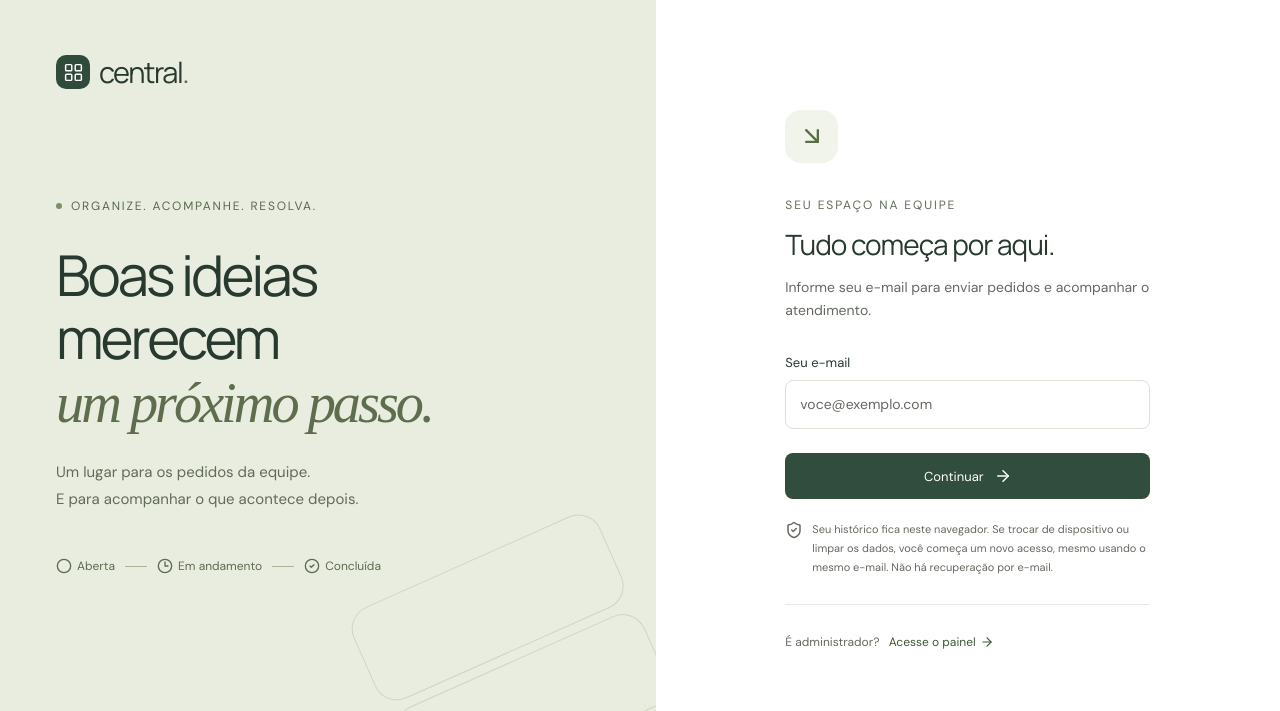
Scenario: participant flow › requires only email, explains local history and retains email after failure
The width and height of the screenshot is (1280, 711).
expect the text "Não há recuperação por e-mail" is shown: met, box [812,522,1146,574]
Type "ana@example.test" into the field labelled "Seu e-mail". click: (968, 405)
box: [785,380,1150,429]
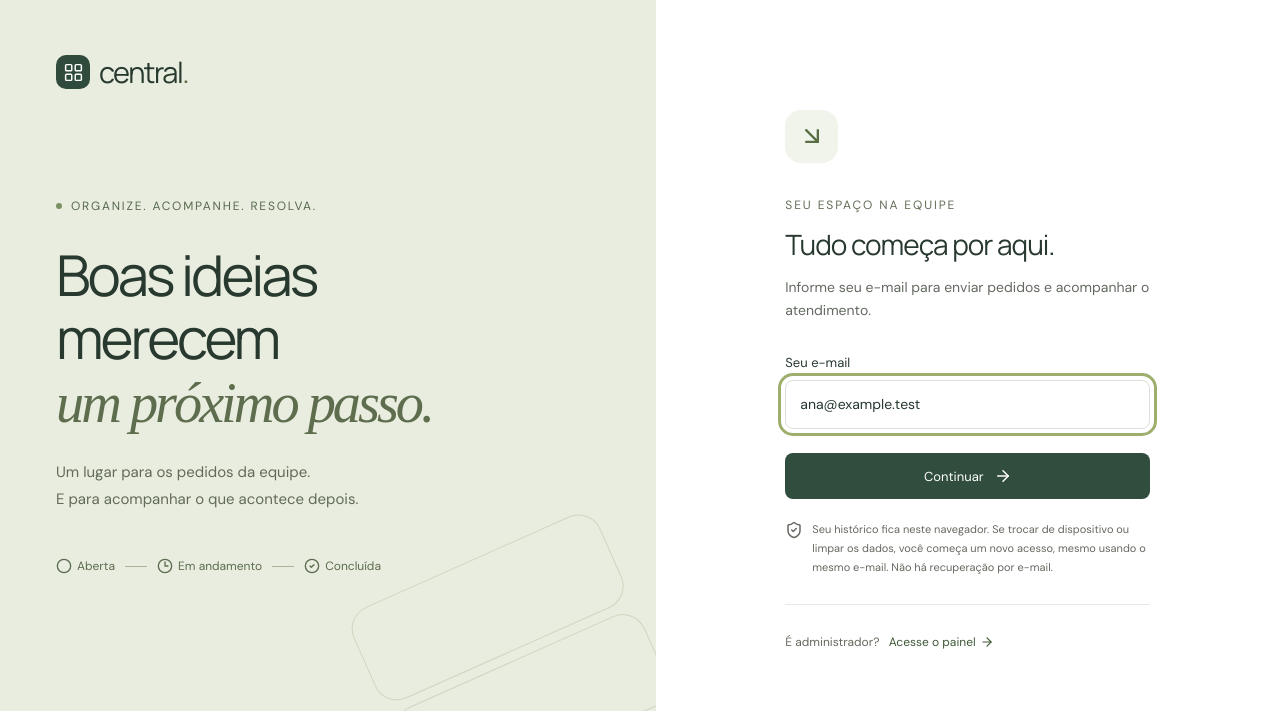
Click the button "Continuar". click: (968, 476)
box: [785,453,1150,499]
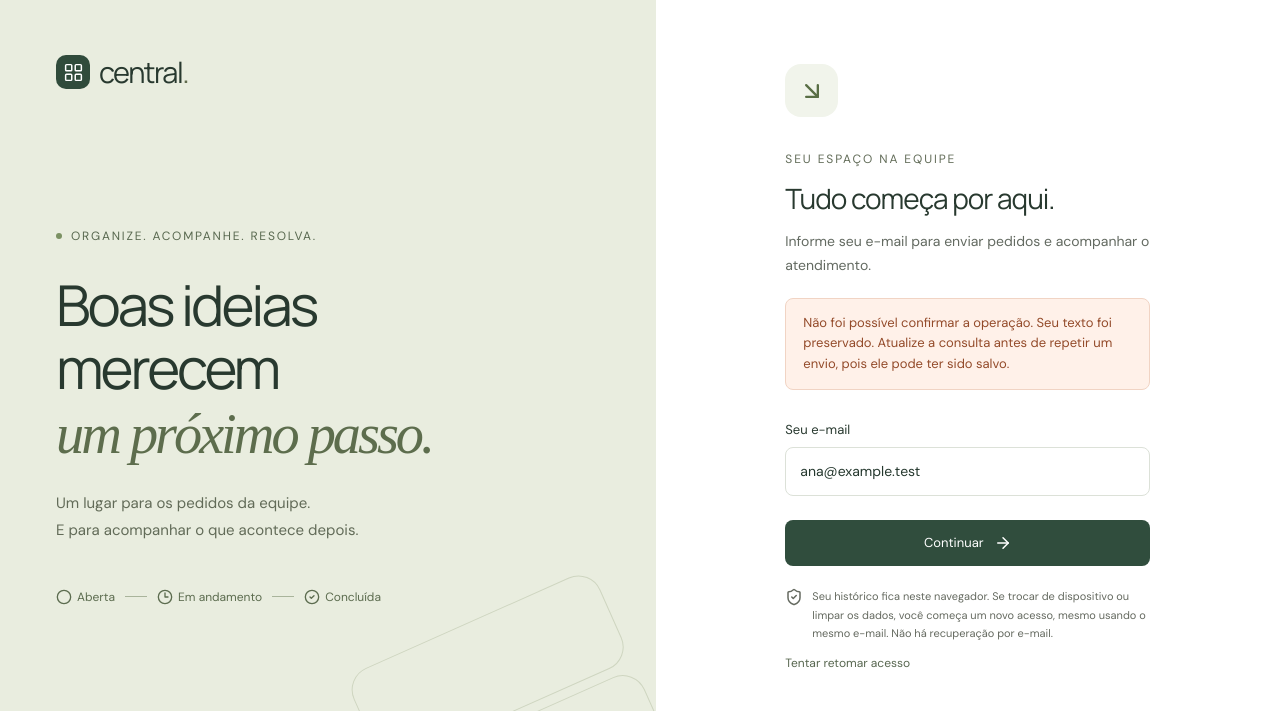
expect the message shows "Não foi possível confirmar": met, box [803,314,1112,372]
